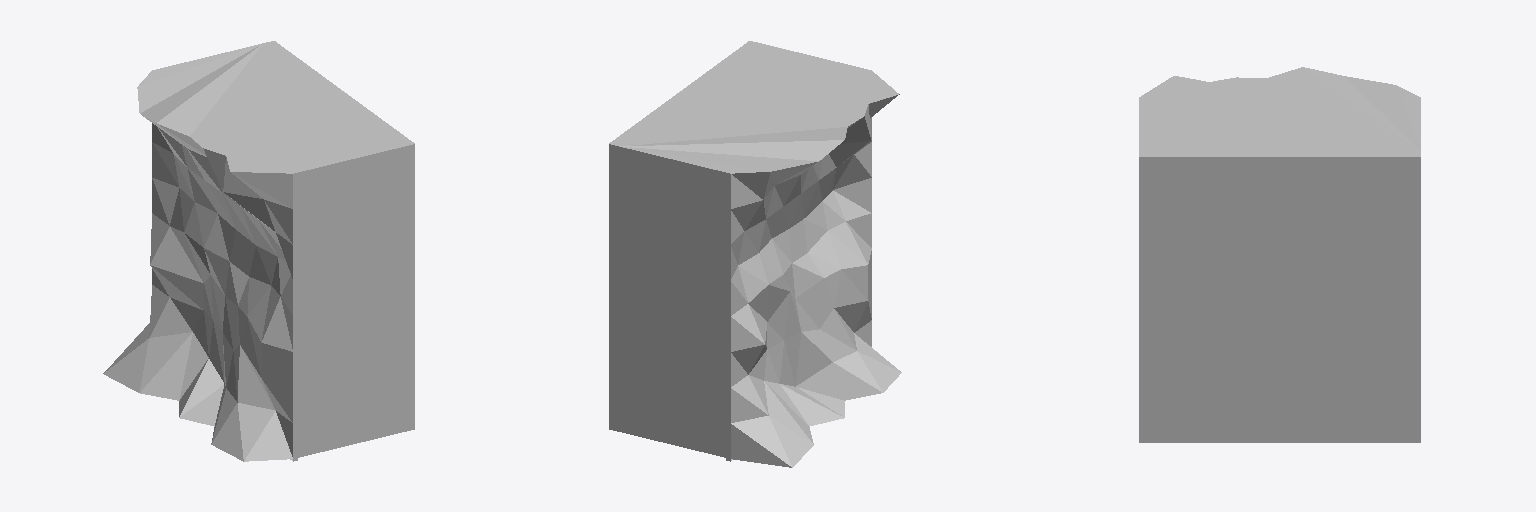
The model's file is Wall 001.obj.
3 views of the same model, side by side, from view 1: azimuth 30°, elevation 25°; view 2: azimuth 150°, elevation 25°; view 3: azimuth 270°, elevation 25° (orthographic).
Parts seen in each view (by area): view 1: Wall 001; view 2: Wall 001; view 3: Wall 001.
Boxes of the visible parts, x1=… form: Wall 001: x1=103, y1=41, x2=414, y2=461; Wall 001: x1=609, y1=41, x2=901, y2=467; Wall 001: x1=1139, y1=67, x2=1420, y2=442.
Bounding box in the file's own units: 36.37 × 57.05 × 50.01.